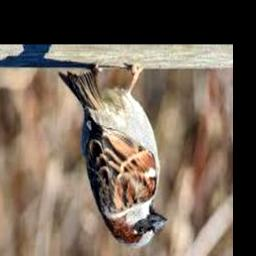Sparrow: (59, 65, 168, 249)
